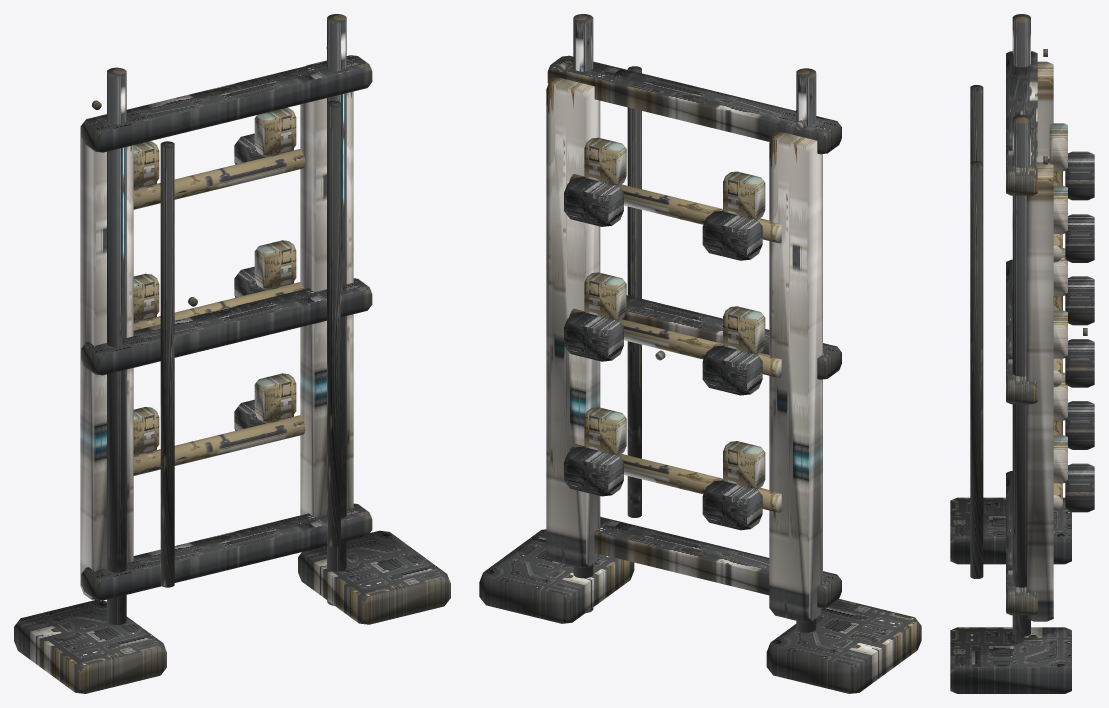
File: room_l5_v3_limb_calibration_rack.glb
3 renders of one model, left to right at view 1: azimuth 30°, elevation 25°; view 2: azimuth 150°, elevation 25°; view 3: azimuth 270°, elevation 25°, orthographic. The views are drawn at different scales.
Parts seen in each view (by area): view 1: white_ceramic_upright_skin_-0.45, white_ceramic_upright_skin_0.45, graphite_crossbar_2.05, tall_graphite_rail_-0.45, wide_graphite_floor_foot_-0.58, wide_graphite_floor_foot_0.58, graphite_crossbar_0.3, graphite_crossbar_1.18, rear_black_cable_run_-0.34, rear_black_cable_run_0.34, tall_graphite_rail_0.45, brass_calibration_arm_0 (+8 smaller); view 2: white_ceramic_upright_skin_-0.45, white_ceramic_upright_skin_0.45, wide_graphite_floor_foot_-0.58, graphite_crossbar_2.05, wide_graphite_floor_foot_0.58, graphite_crossbar_0.3, rear_black_cable_run_0.34, graphite_crossbar_1.18, black_limb_pad_2_-0.28, black_limb_pad_0_-0.28, black_limb_pad_1_-0.28, black_limb_pad_0_0.28 (+13 smaller); view 3: white_ceramic_upright_skin_0.45, wide_graphite_floor_foot_0.58, tall_graphite_rail_0.45, rear_black_cable_run_0.34, wide_graphite_floor_foot_-0.58, graphite_crossbar_2.05, graphite_crossbar_1.18, graphite_crossbar_0.3, white_ceramic_upright_skin_-0.45, black_limb_pad_0_0.28, black_limb_pad_1_0.28, black_limb_pad_2_0.28 (+14 smaller).
Part boxes in pixels (x1=…): white_ceramic_upright_skin_-0.45: x1=80, y1=114, x2=133, y2=600; white_ceramic_upright_skin_0.45: x1=300, y1=60, x2=353, y2=517; graphite_crossbar_2.05: x1=81, y1=55, x2=372, y2=152; tall_graphite_rail_-0.45: x1=107, y1=67, x2=126, y2=625; wide_graphite_floor_foot_-0.58: x1=14, y1=600, x2=166, y2=693; wide_graphite_floor_foot_0.58: x1=298, y1=530, x2=450, y2=624; graphite_crossbar_0.3: x1=81, y1=503, x2=372, y2=600; graphite_crossbar_1.18: x1=81, y1=278, x2=372, y2=375; rear_black_cable_run_-0.34: x1=160, y1=141, x2=174, y2=587; rear_black_cable_run_0.34: x1=327, y1=100, x2=340, y2=546; tall_graphite_rail_0.45: x1=327, y1=14, x2=346, y2=605; brass_calibration_arm_0: x1=133, y1=415, x2=305, y2=475; white_ceramic_upright_skin_-0.45: x1=769, y1=131, x2=822, y2=622; white_ceramic_upright_skin_0.45: x1=546, y1=76, x2=600, y2=567; wide_graphite_floor_foot_-0.58: x1=766, y1=599, x2=921, y2=693; graphite_crossbar_2.05: x1=547, y1=55, x2=841, y2=154; wide_graphite_floor_foot_0.58: x1=479, y1=529, x2=634, y2=623; graphite_crossbar_0.3: x1=594, y1=517, x2=841, y2=607; rear_black_cable_run_0.34: x1=627, y1=66, x2=641, y2=517; graphite_crossbar_1.18: x1=622, y1=295, x2=841, y2=379; black_limb_pad_2_-0.28: x1=702, y1=210, x2=762, y2=260; black_limb_pad_0_-0.28: x1=702, y1=480, x2=762, y2=530; black_limb_pad_1_-0.28: x1=702, y1=345, x2=762, y2=395; black_limb_pad_0_0.28: x1=564, y1=446, x2=623, y2=496; white_ceramic_upright_skin_0.45: x1=1027, y1=162, x2=1053, y2=621; wide_graphite_floor_foot_0.58: x1=950, y1=627, x2=1071, y2=693; tall_graphite_rail_0.45: x1=1012, y1=114, x2=1030, y2=636; rear_black_cable_run_0.34: x1=970, y1=161, x2=983, y2=578; wide_graphite_floor_foot_-0.58: x1=950, y1=497, x2=1071, y2=564; graphite_crossbar_2.05: x1=1006, y1=51, x2=1037, y2=195; graphite_crossbar_1.18: x1=1006, y1=259, x2=1037, y2=404; graphite_crossbar_0.3: x1=1006, y1=471, x2=1037, y2=615; white_ceramic_upright_skin_-0.45: x1=1037, y1=61, x2=1053, y2=162; black_limb_pad_0_0.28: x1=1065, y1=463, x2=1094, y2=512; black_limb_pad_1_0.28: x1=1065, y1=339, x2=1094, y2=387; black_limb_pad_2_0.28: x1=1065, y1=214, x2=1094, y2=262.
Size of the model in its own units: 1.52 by 2.28 by 0.545.
8 materials, 8 textured.
